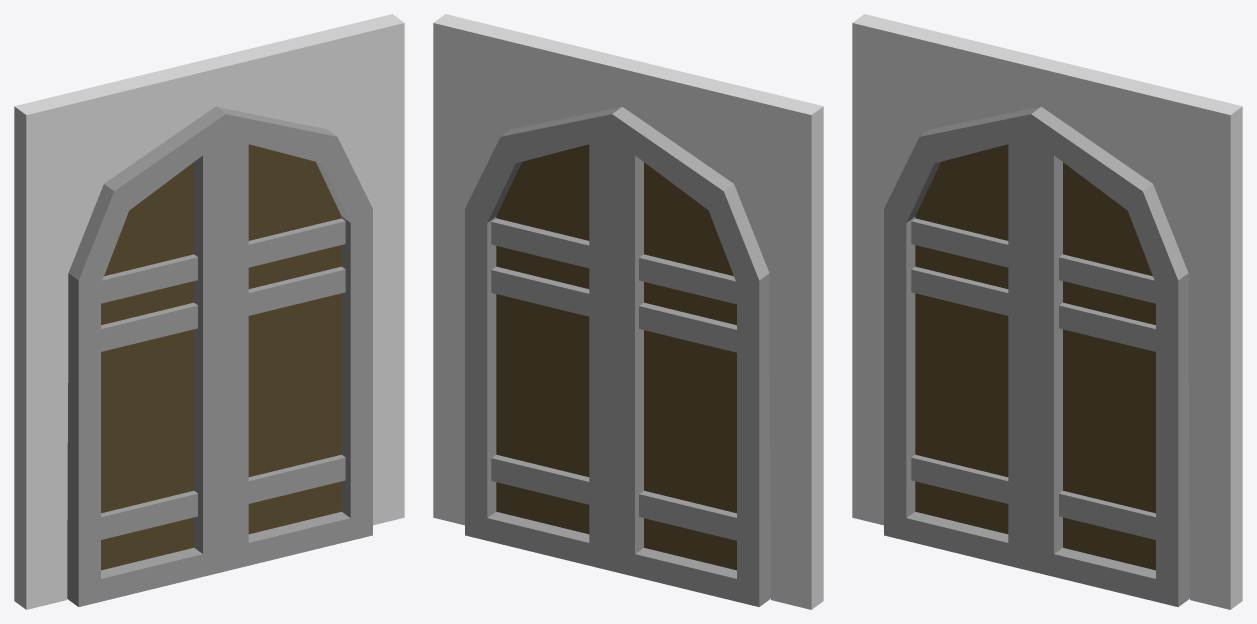
Rendered from Wall 04.FBX.
3 renders of one model, left to right at view 1: azimuth 30°, elevation 25°; view 2: azimuth 150°, elevation 25°; view 3: azimuth 330°, elevation 25°, orthographic.
Parts seen in each view (by area): view 1: Wall 04, Big Door 01 Right, Big Door 01 Left; view 2: Wall 04, Big Door 01 Right, Big Door 01 Left; view 3: Wall 04, Big Door 01 Left, Big Door 01 Right.
Boxes of the visible parts, x1,y1,x2,y2 form: Wall 04: (14,14,404,609); Big Door 01 Right: (67,107,225,606); Big Door 01 Left: (216,107,372,571); Wall 04: (433,14,823,609); Big Door 01 Right: (612,107,770,606); Big Door 01 Left: (465,107,621,571); Wall 04: (852,14,1242,609); Big Door 01 Left: (1031,107,1189,606); Big Door 01 Right: (884,107,1040,571).
Size of the model in its own units: 400 by 500 by 59.87.
